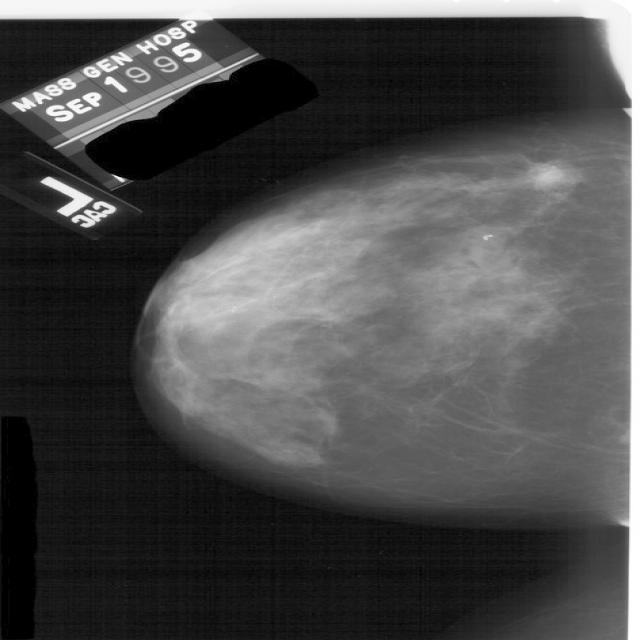tumour: (525, 160, 568, 190)
